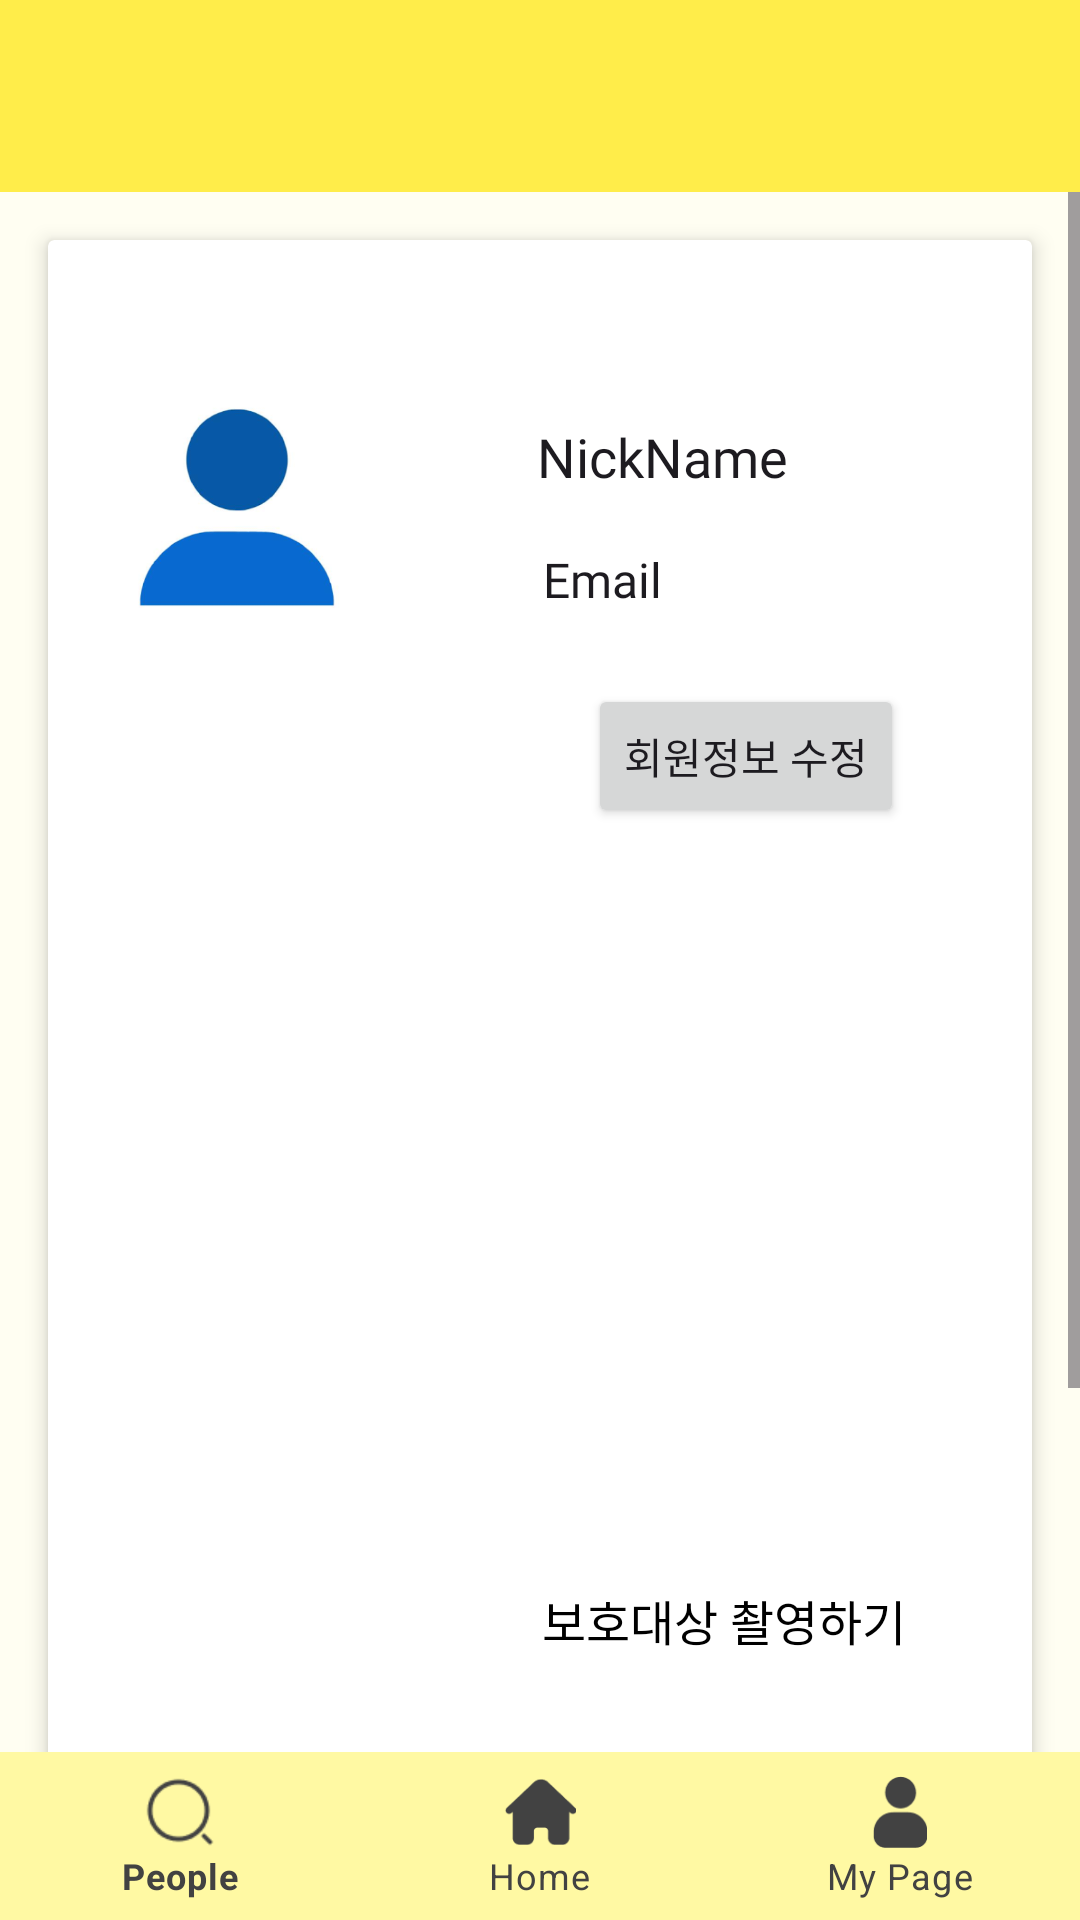

Screen size 1080w x 1920h. Icon name, then its box in pixels as box(x1, y1, x2, y2):
profile: box(139, 409, 335, 606)
